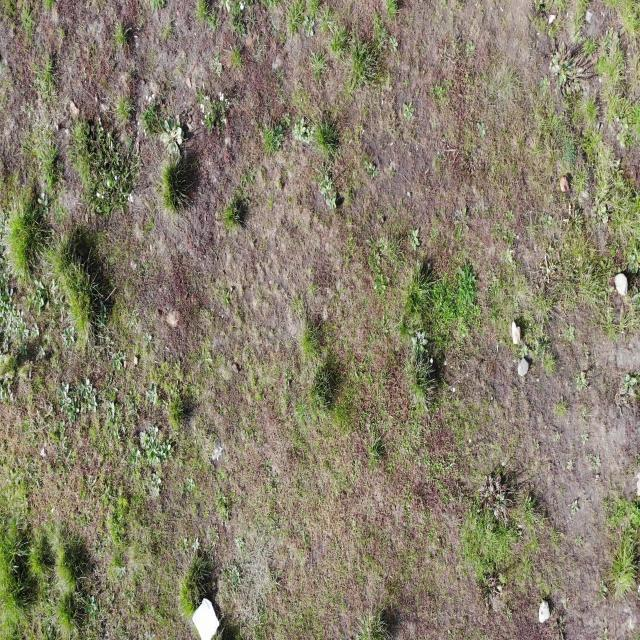rubbish: (190, 600, 220, 640)
